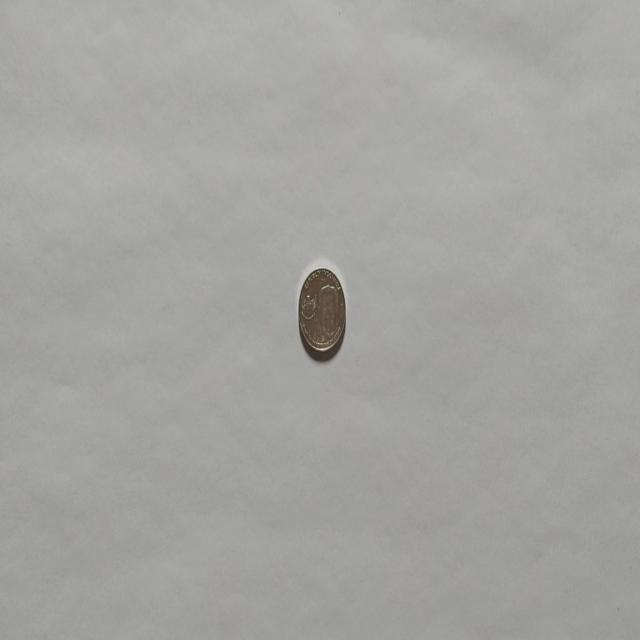seratus rupiah: (297, 266, 346, 356)
